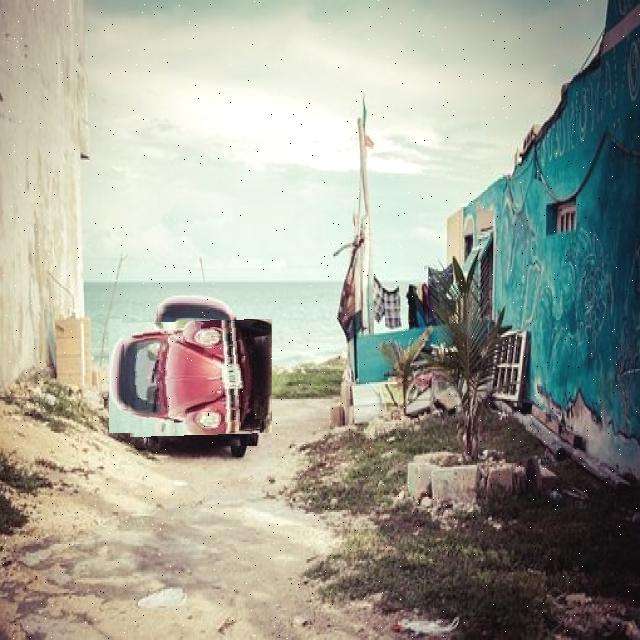car: (122, 307, 261, 447)
